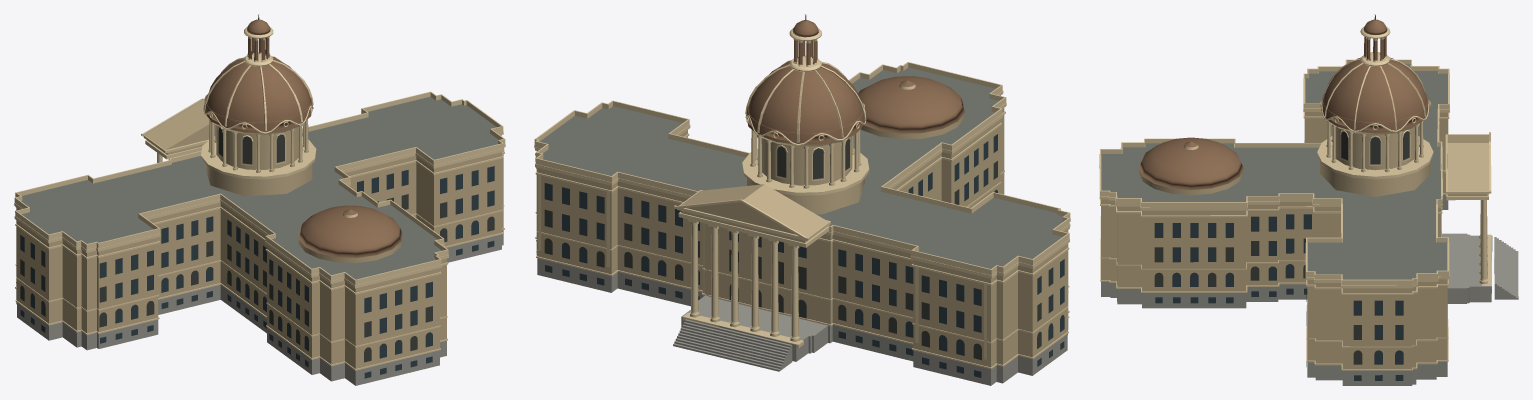
Rendered from alberta-legislature-building-far.glb.
The picture shows the model from 3 angles, left to right: view 1: azimuth 30°, elevation 25°; view 2: azimuth 150°, elevation 25°; view 3: azimuth 270°, elevation 25°; orthographic projection. The views are drawn at different scales.
Visible parts, largest first — view 1: alberta-legislature-building-0-stone, alberta-legislature-building-0-roof, alberta-legislature-building-0-trim, alberta-legislature-building-0-terra, alberta-legislature-building-0-glass, alberta-legislature-building-0-granite, alberta-legislature-building-0-light; view 2: alberta-legislature-building-0-stone, alberta-legislature-building-0-trim, alberta-legislature-building-0-roof, alberta-legislature-building-0-terra, alberta-legislature-building-0-granite, alberta-legislature-building-0-glass, alberta-legislature-building-0-light; view 3: alberta-legislature-building-0-stone, alberta-legislature-building-0-roof, alberta-legislature-building-0-trim, alberta-legislature-building-0-terra, alberta-legislature-building-0-granite, alberta-legislature-building-0-glass, alberta-legislature-building-0-light.
Part boxes in pixels (x1,y1,x2,y2): alberta-legislature-building-0-stone: (16,100,503,368); alberta-legislature-building-0-roof: (21,96,498,279); alberta-legislature-building-0-trim: (14,14,505,370); alberta-legislature-building-0-terra: (205,19,402,257); alberta-legislature-building-0-glass: (20,166,494,378); alberta-legislature-building-0-granite: (16,230,503,385); alberta-legislature-building-0-light: (20,127,494,362); alberta-legislature-building-0-stone: (536,108,1068,367); alberta-legislature-building-0-trim: (534,14,1070,369); alberta-legislature-building-0-roof: (540,67,1062,268); alberta-legislature-building-0-terra: (746,20,964,144); alberta-legislature-building-0-granite: (536,241,1068,385); alberta-legislature-building-0-glass: (544,134,1064,377); alberta-legislature-building-0-light: (544,138,1041,360); alberta-legislature-building-0-stone: (1101,112,1489,368); alberta-legislature-building-0-roof: (1101,64,1447,279); alberta-legislature-building-0-trim: (1099,14,1491,370); alberta-legislature-building-0-terra: (1138,19,1429,190); alberta-legislature-building-0-granite: (1101,195,1518,385); alberta-legislature-building-0-glass: (1154,214,1403,380); alberta-legislature-building-0-light: (1154,131,1409,364).
Bounding box in the file's own units: 103 × 57 × 82.78.
